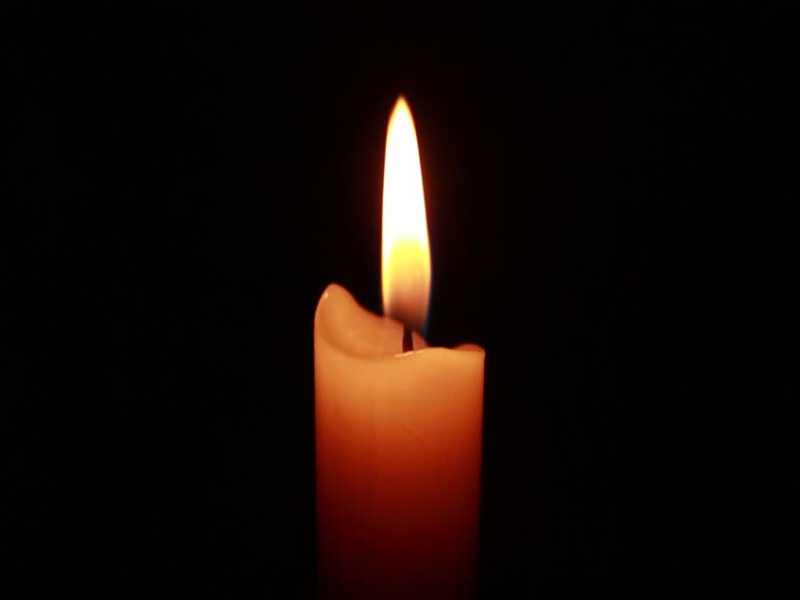fire: (381, 98, 431, 318)
